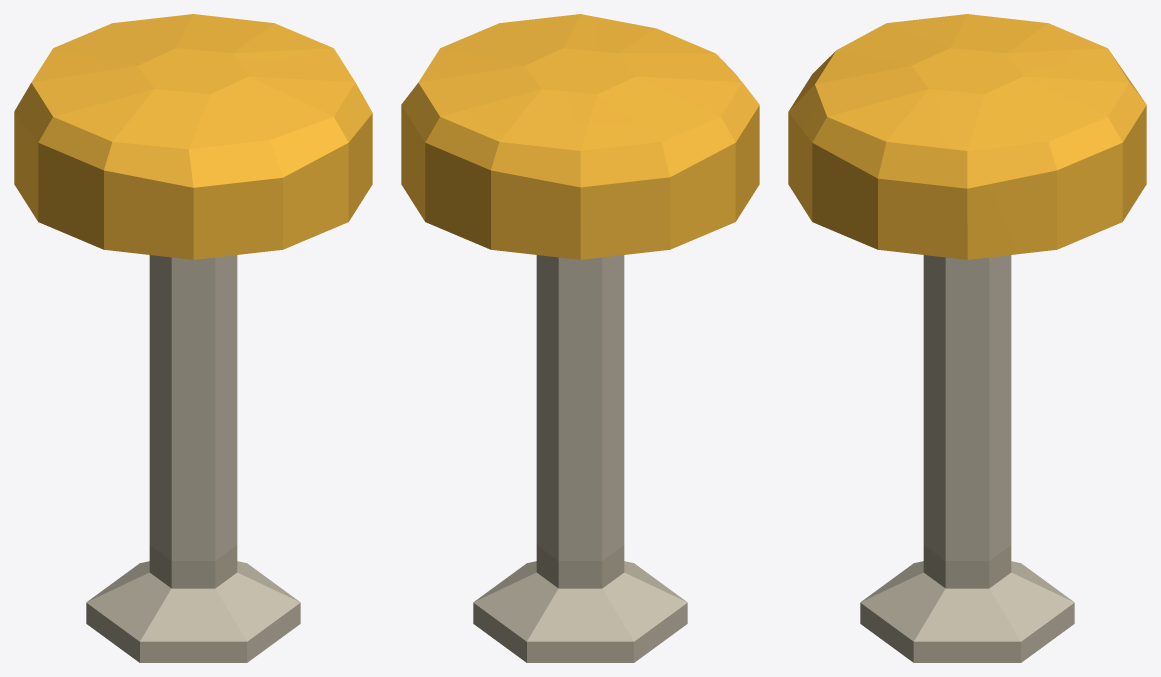
File: SM_Prop_Bar_Stool_01.fbx
3 renders of one model, left to right at view 1: azimuth 30°, elevation 25°; view 2: azimuth 150°, elevation 25°; view 3: azimuth 270°, elevation 25°, orthographic.
Parts seen in each view (by area): view 1: SM_Prop_Bar_Stool_01; view 2: SM_Prop_Bar_Stool_01; view 3: SM_Prop_Bar_Stool_01.
Part boxes in pixels (left/top/right/bottom): SM_Prop_Bar_Stool_01: left=14, top=14, right=372, bottom=662; SM_Prop_Bar_Stool_01: left=401, top=14, right=759, bottom=662; SM_Prop_Bar_Stool_01: left=788, top=14, right=1146, bottom=662.
Bounding box in the file's own units: 35.73 × 60.76 × 35.73.
